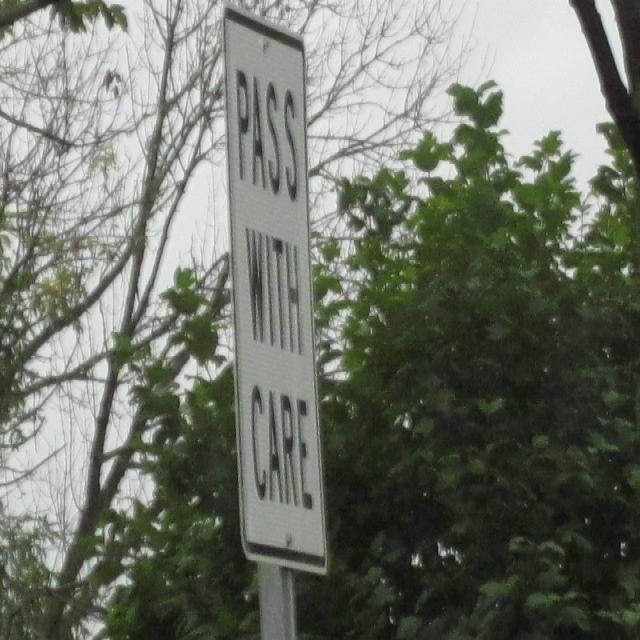regulatory: (220, 5, 332, 575)
